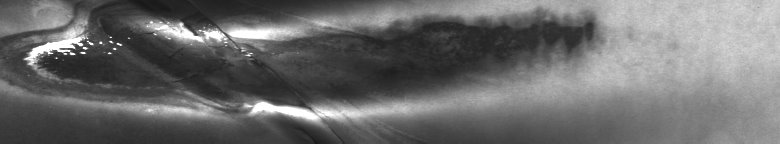ke: (4, 12, 593, 132)
